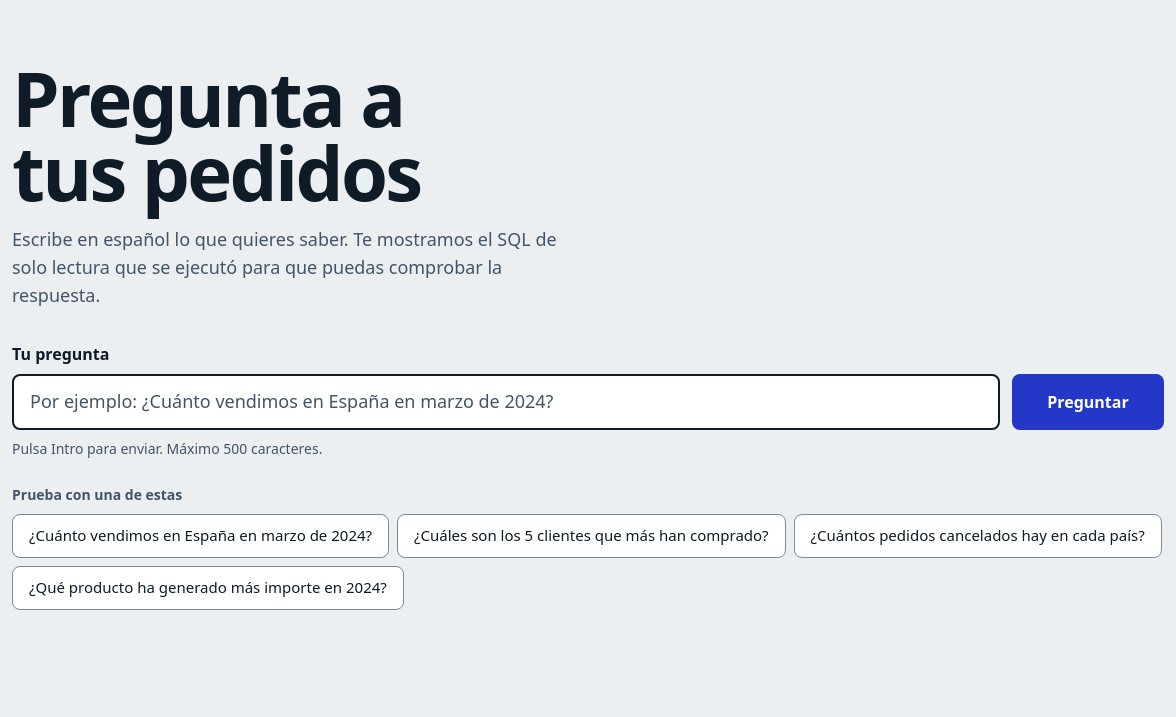
it: QuestionPanel › muestra un mensaje en español para llm_no_configurado
This screenshot has width=1176, height=717.
Type "borra todo" into the field labelled "Tu pregunta" at (506, 402), box [12, 374, 1000, 430]
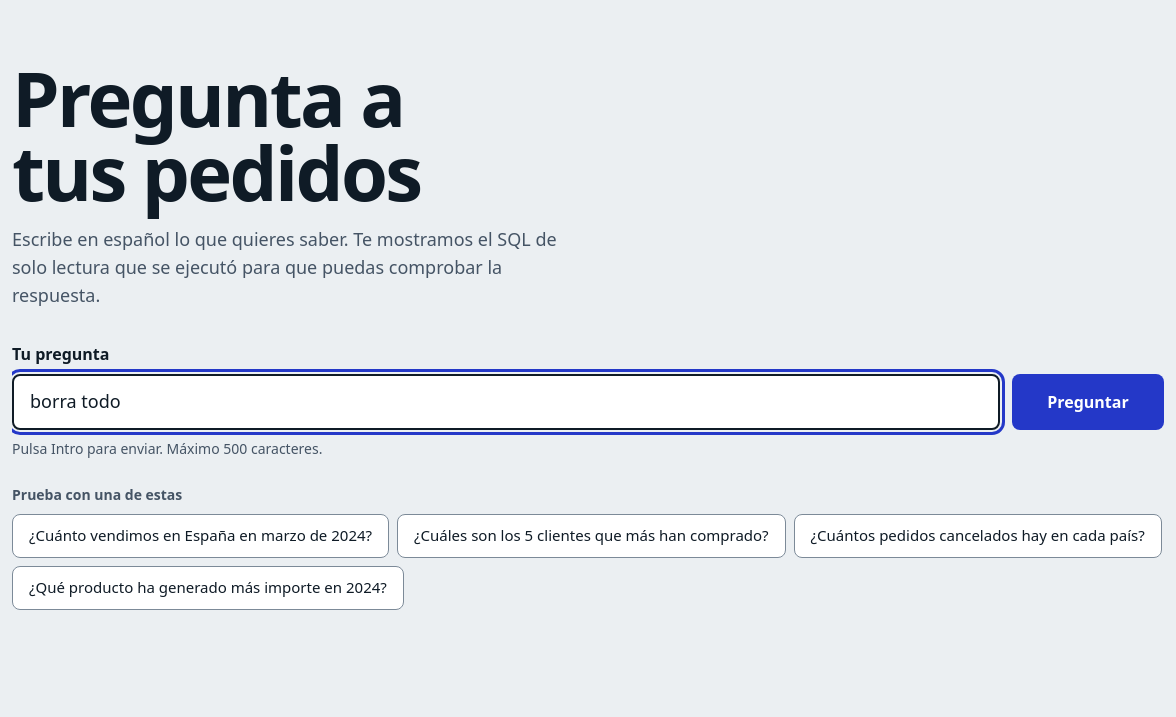
Click the button "Preguntar" at (1088, 402), box [1012, 374, 1164, 430]
(page scrolled)
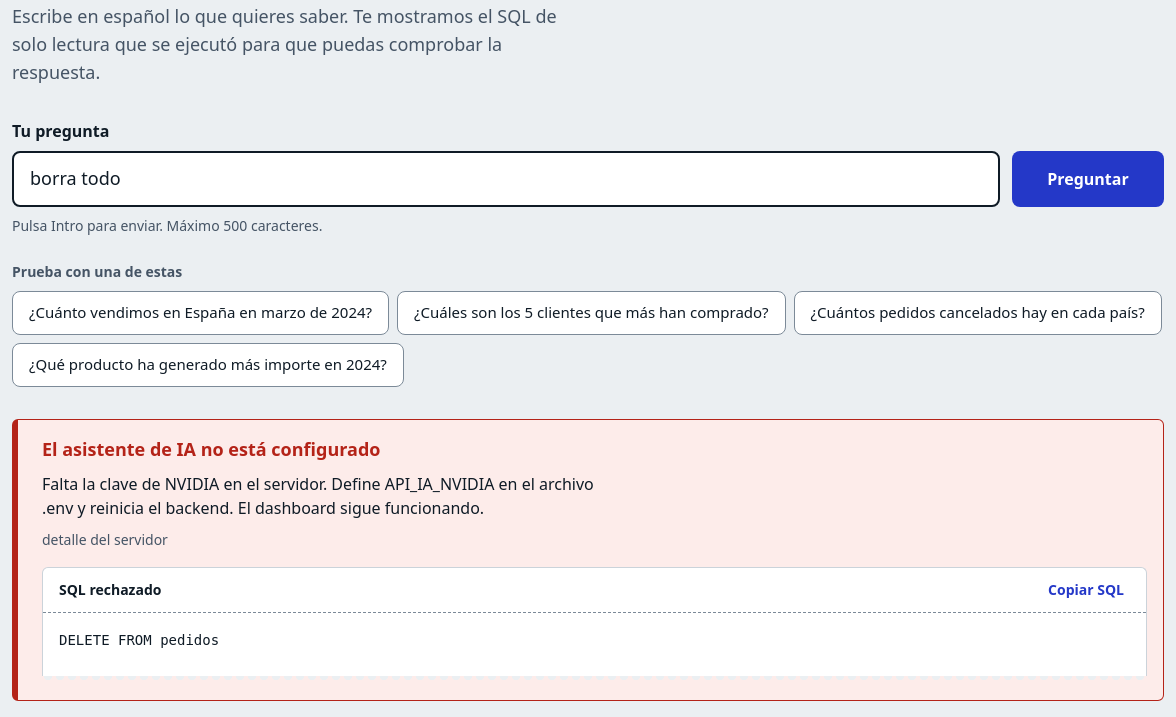
expect the message shows "El asistente de IA no está configurado": met, box [42, 437, 380, 461]
